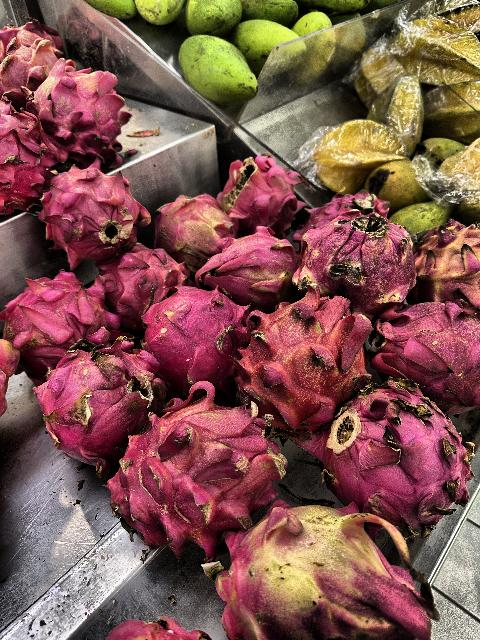buah-naga-belum-matang: (219, 500, 447, 640), (17, 62, 131, 162), (304, 216, 416, 308), (198, 236, 296, 300), (410, 218, 480, 306), (152, 190, 232, 256), (1, 15, 61, 91)
buah-naga-matang: (114, 386, 288, 544), (320, 388, 480, 522), (238, 293, 378, 421), (44, 334, 158, 452), (372, 302, 480, 411), (40, 166, 160, 262), (0, 272, 114, 364), (144, 284, 246, 386), (214, 156, 302, 234), (0, 96, 52, 216), (98, 246, 186, 306), (296, 184, 390, 223)
